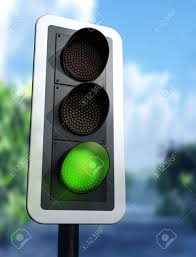green: (26, 12, 132, 230), (39, 22, 121, 216), (50, 30, 115, 210), (56, 35, 109, 194)
